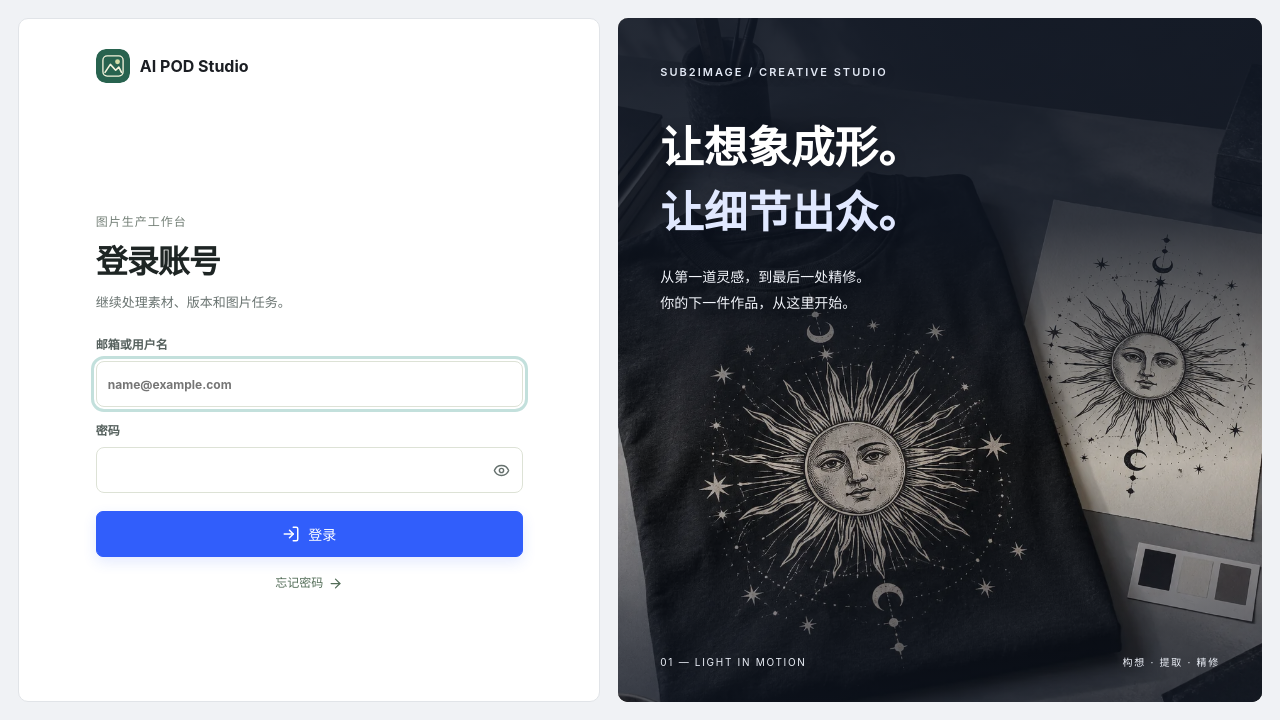
Test case: UserApp authentication › announces the server error and preserves the login route
In the field labelled "邮箱或用户名": (309, 384) [96, 361, 523, 407], type "member@example.test"
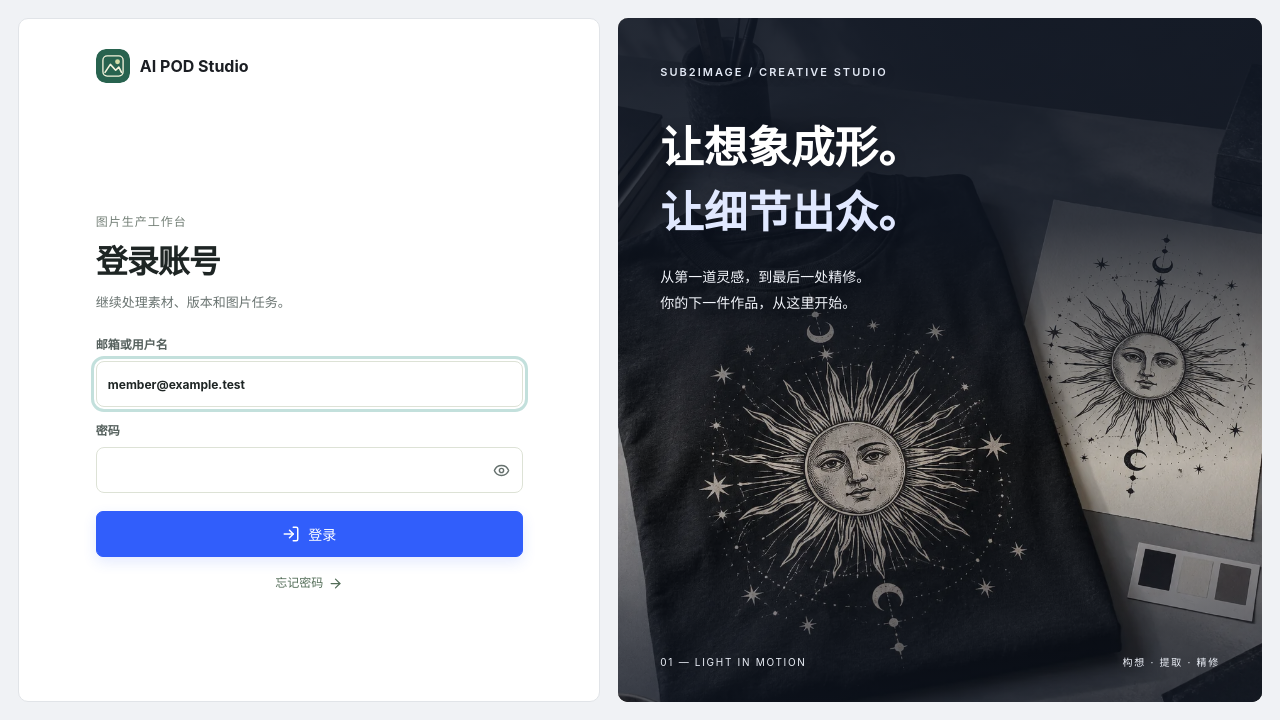
In the password field labelled "密码": (309, 470) [96, 447, 523, 493], type "wrong password"
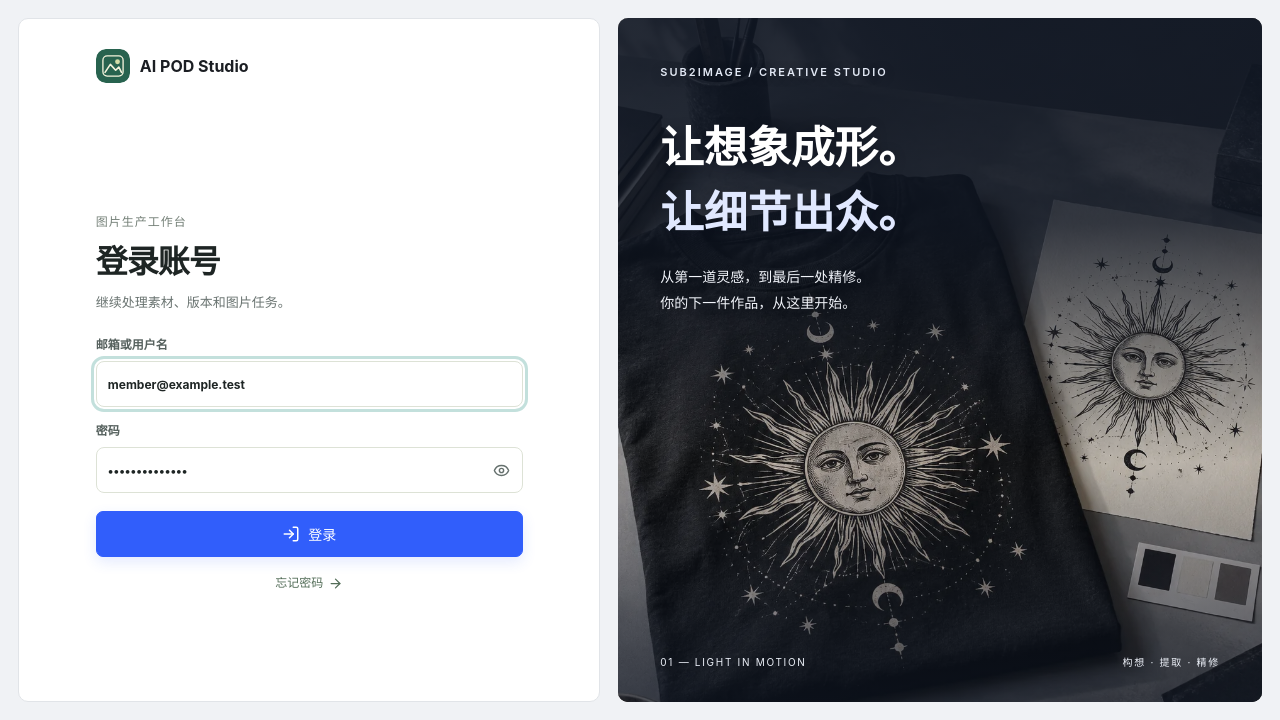
Click the button "登录": (309, 534) [96, 511, 523, 557]
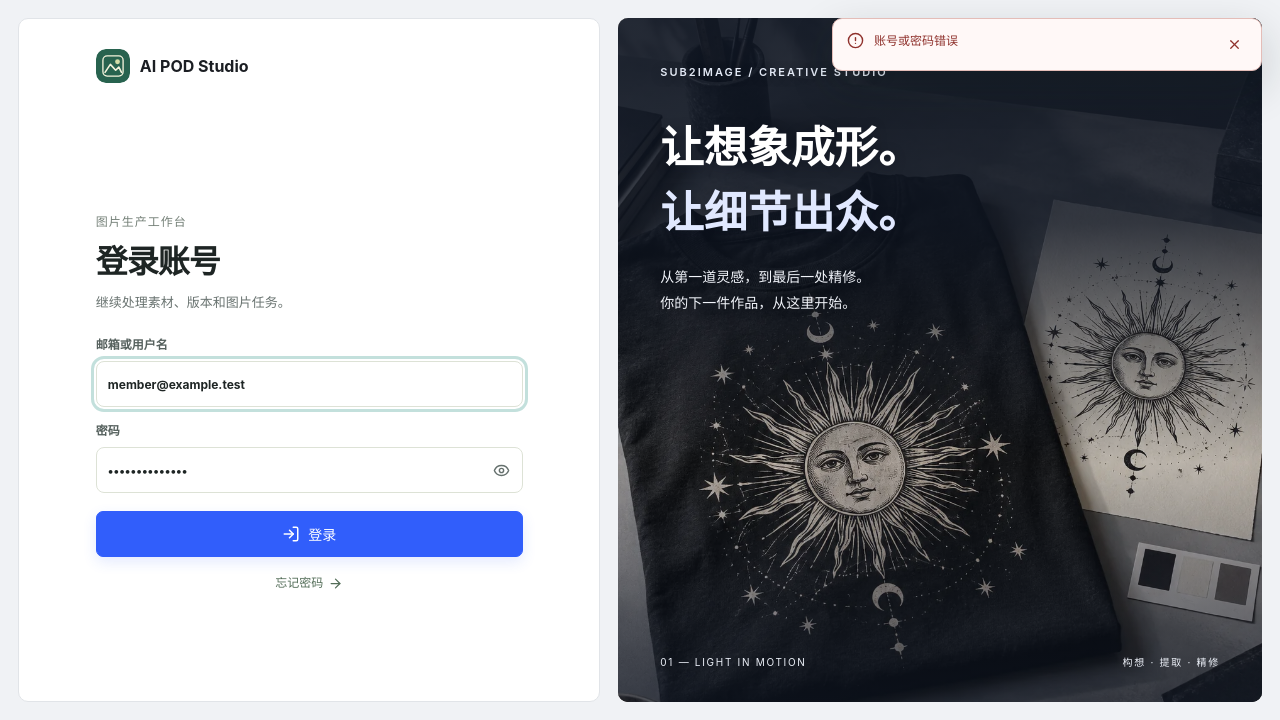
Result: the message reads "账号或密码错误" at [874, 33, 958, 48]
